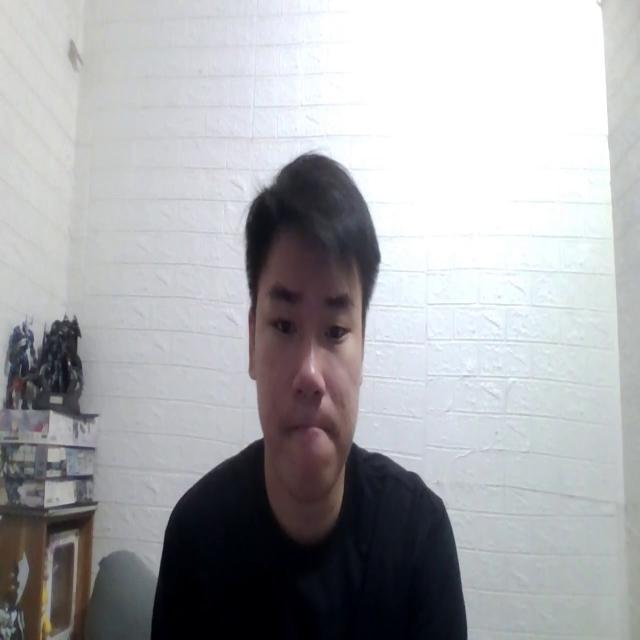student: (148, 150, 464, 640)
